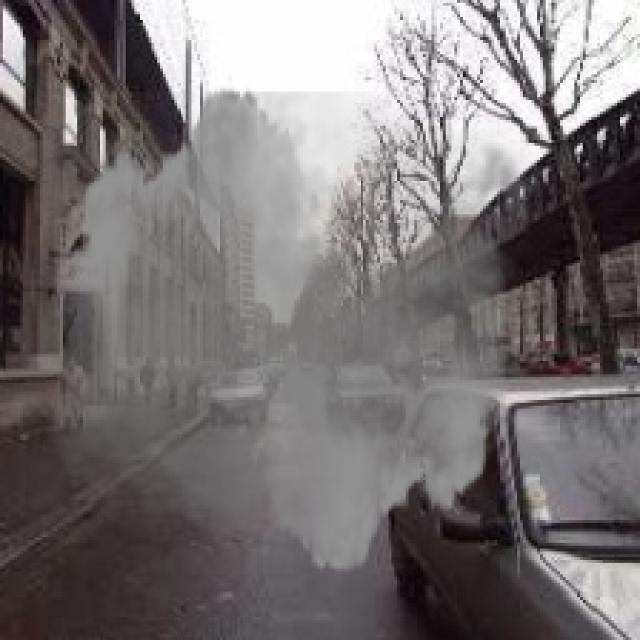Smoke: (34, 71, 549, 588)
